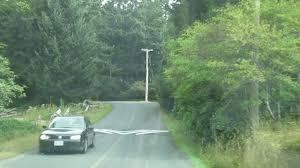Bump: (92, 127, 168, 134)
